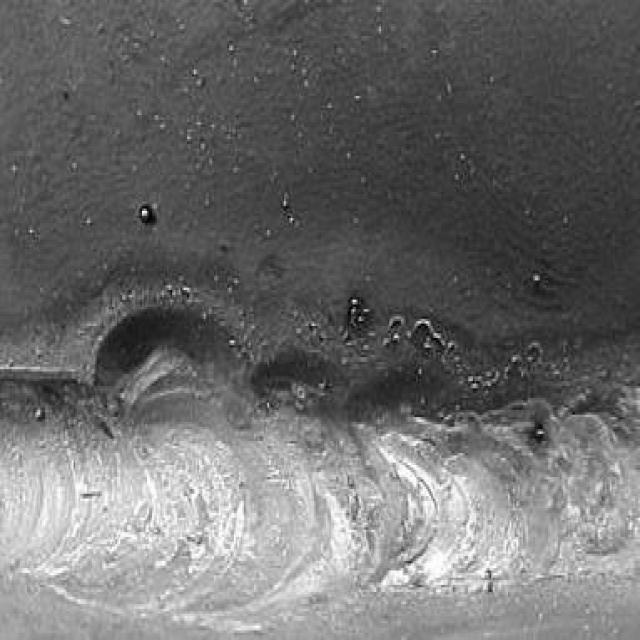Bad Welding: (0, 290, 638, 616)
Porosity: (524, 410, 544, 453)
